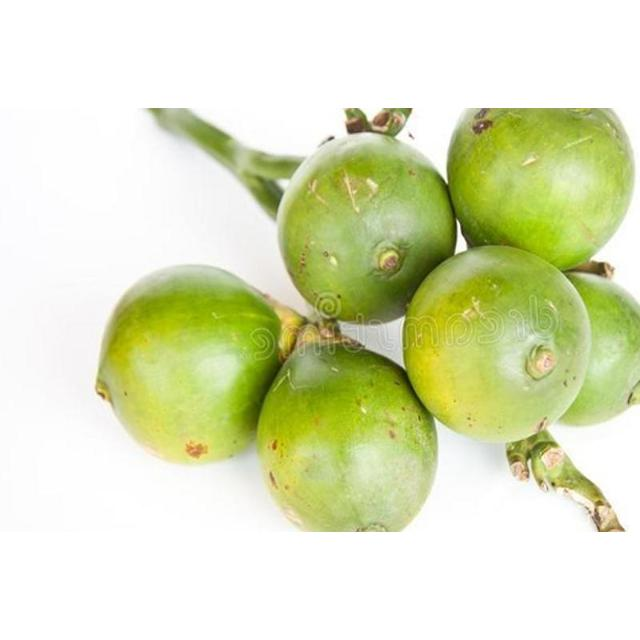good: (402, 246, 630, 447), (95, 266, 301, 468), (274, 132, 459, 327), (254, 337, 438, 532), (447, 108, 636, 273), (558, 274, 639, 427)
